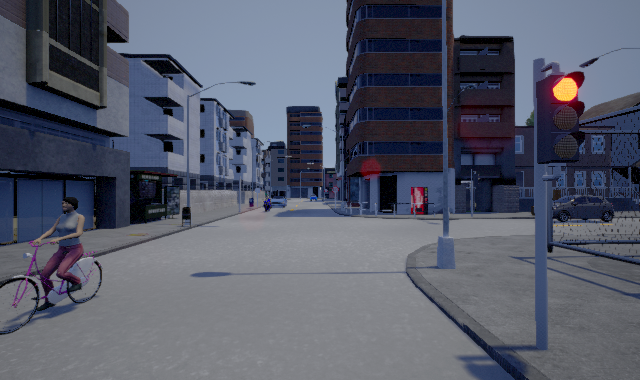bike: (1, 193, 115, 335)
motobike: (262, 196, 273, 212)
traffic_light: (536, 61, 585, 181)
traffic_sign: (332, 186, 339, 193)
vehicle: (553, 195, 614, 222), (266, 193, 288, 211)
